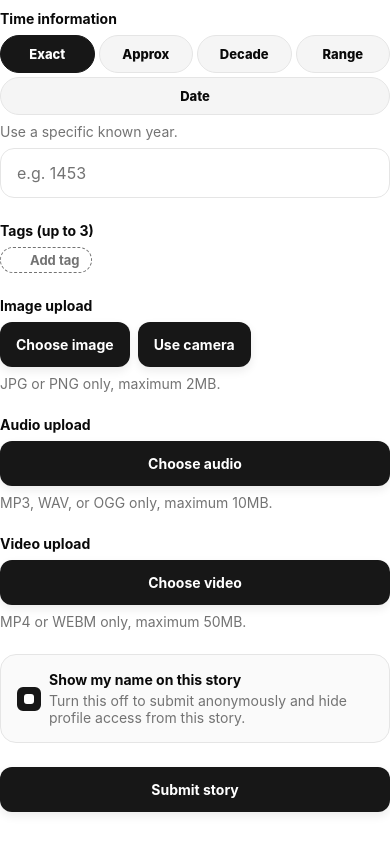
Test case: SubmissionScreen › shows inline validation errors for invalid audio and oversized video files
The width and height of the screenshot is (390, 844).
(page scrolled)
Click the button "Choose audio": coordinates (195, 464) 0,441 -> 389,486
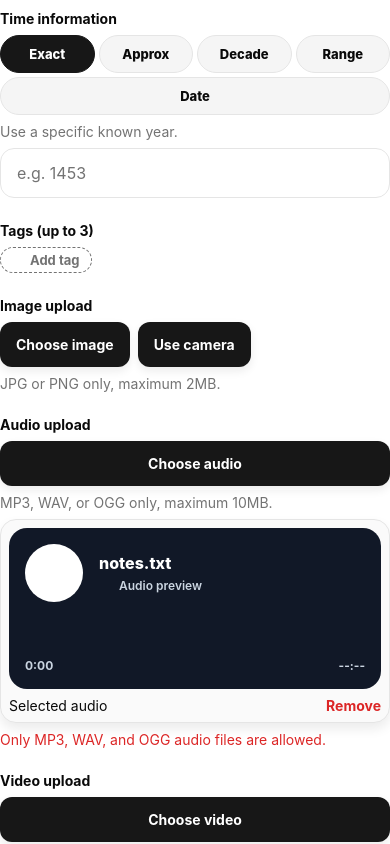
Expected: the text "Only MP3, WAV, and OGG audio files are allowed." is shown, 0,731 -> 326,748
Click the button "Choose video": coordinates (195, 820) 0,797 -> 389,842
(page scrolled)
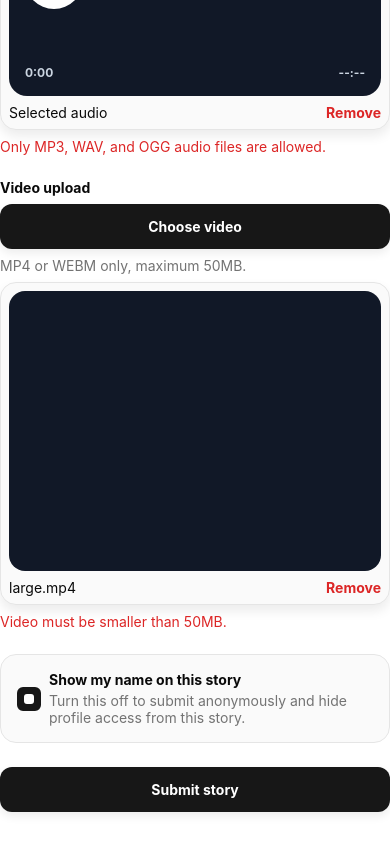
Expected: the text "Video must be smaller than 50MB." is shown, 0,613 -> 227,630
